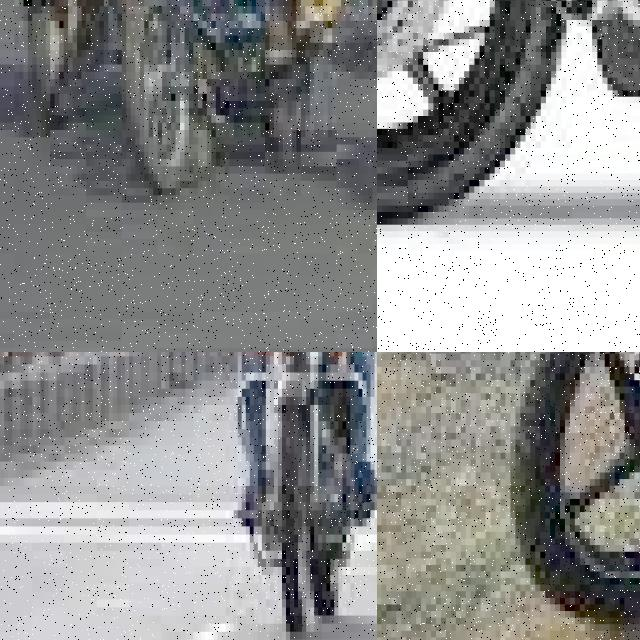bike: (377, 0, 640, 250), (103, 0, 354, 180), (505, 352, 640, 631), (233, 352, 362, 640), (19, 0, 104, 137)
